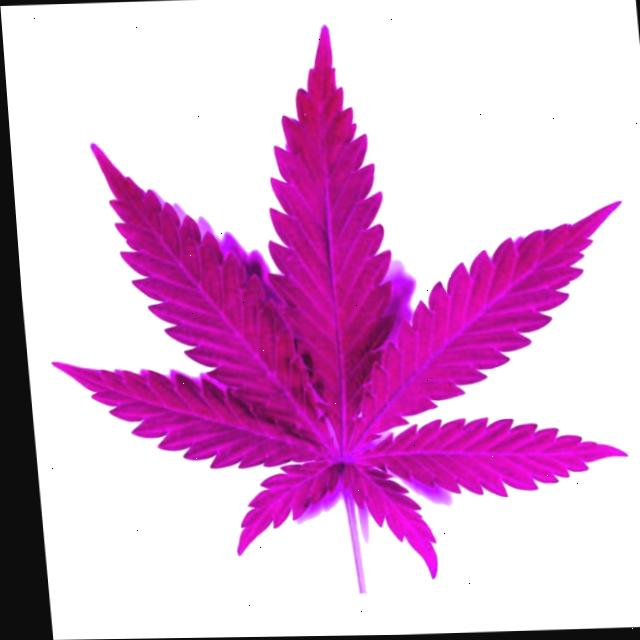cannabis: (52, 26, 628, 596)
